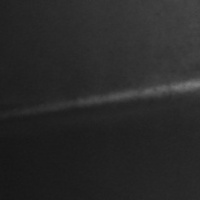scratches: (27, 76, 199, 115)
